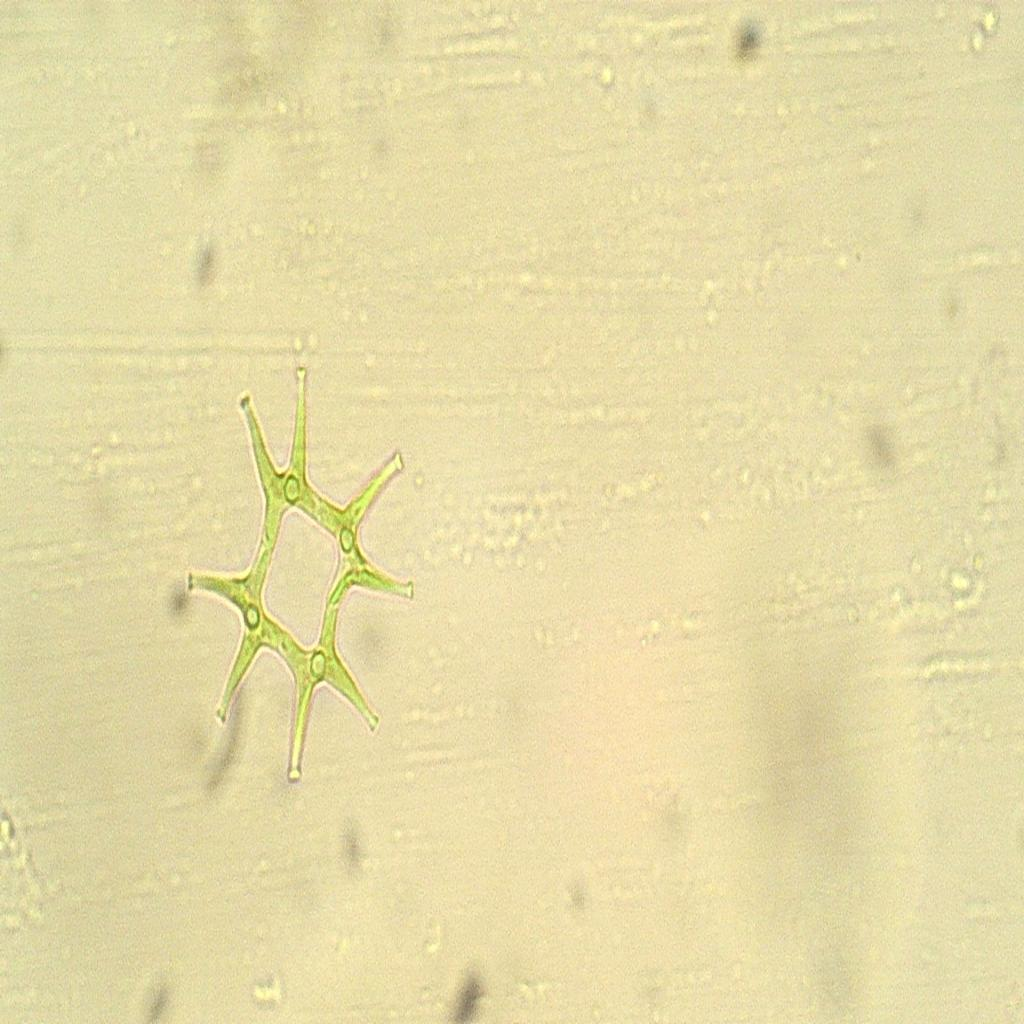Pediastrum_75O: (177, 354, 434, 798)
